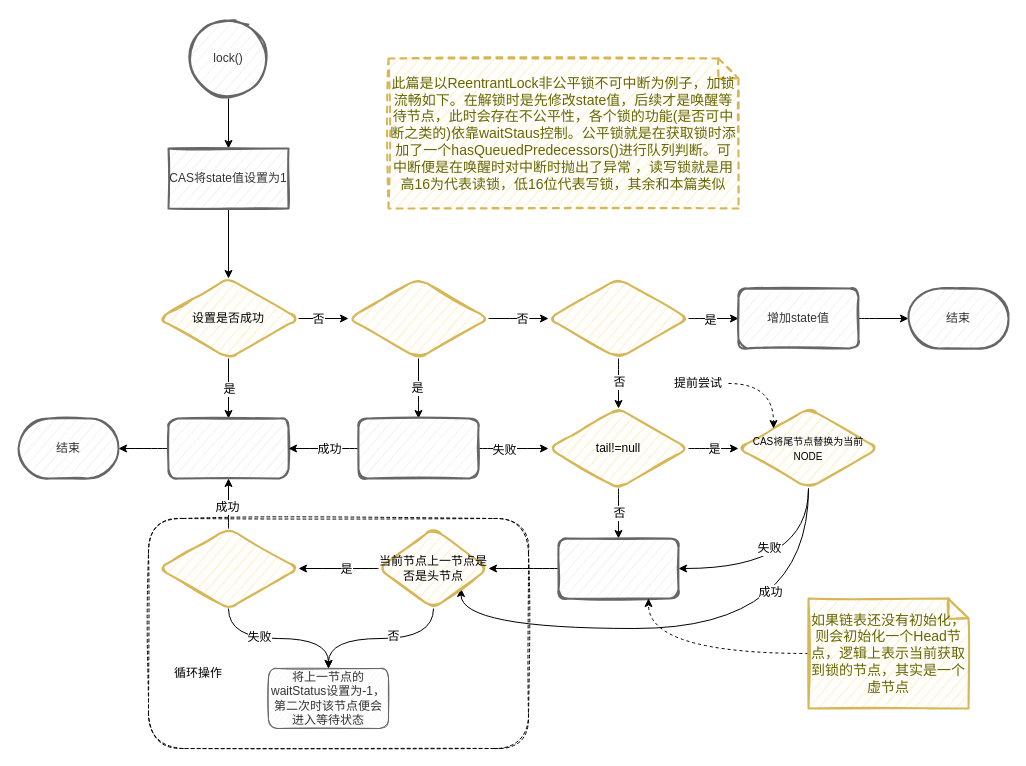
Image size: 1026x766. Some labels were removed from this diagram. Each missing label, with the centre of its shape:
"CAS循环将当前节点插入到尾部" belongs at pixel 618 568.
"state=0" belongs at pixel 418 318.
"再次尝试加锁" belongs at pixel 418 448.
"判断是否是重入" belongs at pixel 618 318.
"尝试加锁" belongs at pixel 228 568.
"获取锁成功，设置当前独占锁线程" belongs at pixel 228 448.
